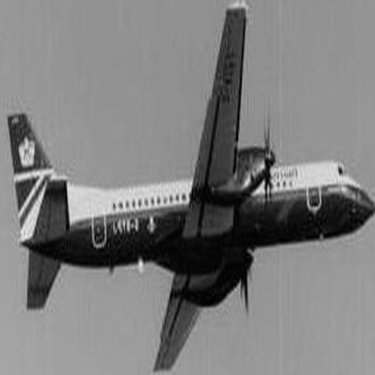airplane: (2, 2, 370, 372)
